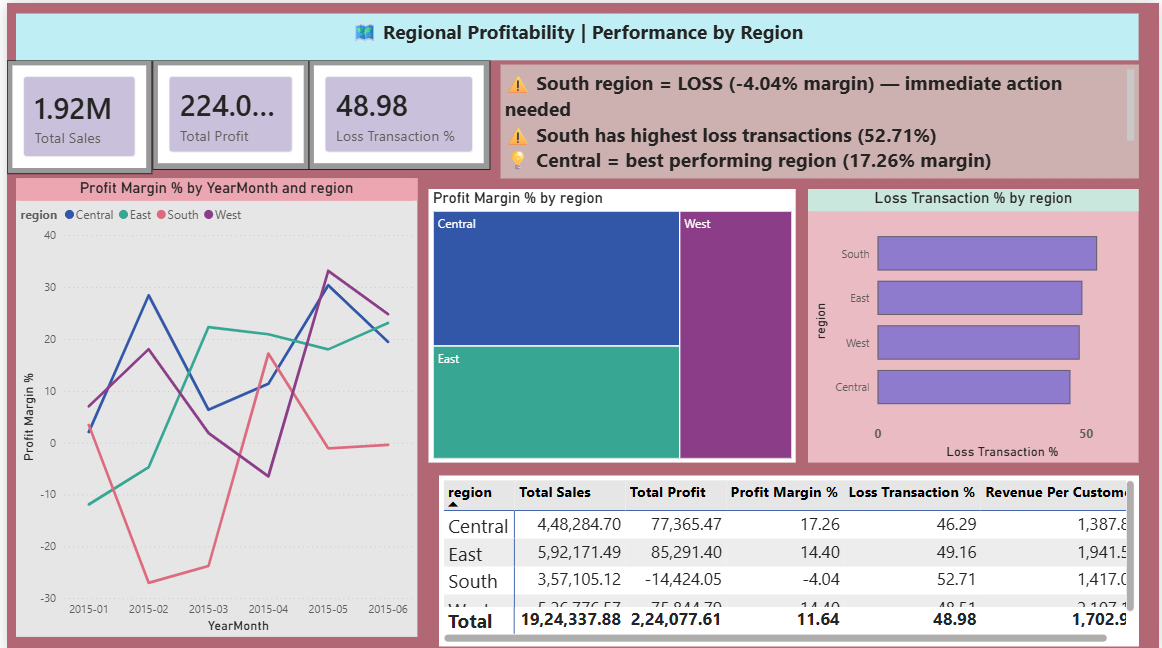

Layout of this report page (visuals, bound fields, positions):
{"tool":"powerbi","page":{"name":"Regional Profitability","canvas":[1280,720],"ordinal":4},"visuals":[{"type":"cardVisual","fields":{"Data":["_Measures.Total Sales"]},"box":[0,63.4,161,126.9],"z":0},{"type":"cardVisual","fields":{"Data":["_Measures.Loss Transaction %"]},"box":[335.1,63.4,201.7,122],"z":1000},{"type":"cardVisual","fields":{"Data":["_Measures.Total Profit"]},"box":[161,63.4,174,122],"z":2000},{"type":"treemap","fields":{"Group":["SuperStoreUs_data.region"],"Values":["_Measures.Profit Margin %"]},"box":[468.4,206.6,408.3,304.2],"z":3000},{"type":"pivotTable","fields":{"Rows":["SuperStoreUs_data.region"],"Values":["_Measures.Total Sales","_Measures.Total Profit","_Measures.Profit Margin %","_Measures.Loss Transaction %","_Measures.Revenue Per Customer"]},"box":[479.8,525.4,777.5,190.3],"z":4000},{"type":"clusteredBarChart","fields":{"Category":["SuperStoreUs_data.region"],"Y":["_Measures.Loss Transaction %"]},"box":[889.7,206.6,367.6,304.2],"z":5000},{"type":"lineChart","fields":{"Category":["DateTable.YearMonth"],"Y":["_Measures.Profit Margin %"],"Series":["SuperStoreUs_data.region"]},"box":[9.8,195.2,445.7,509.1],"z":6000},{"type":"textbox","box":[548.1,68.3,709.2,126.9],"z":7000},{"type":"textbox","box":[9.8,11.4,1247.6,52],"z":7001}]}

Visuals, with their boxes in screenshot pixels (x1, y1, x2, y2), scaled from the page's 1280x720 canvas onto the 1162x648 screenshot:
cardVisual - _Measures.Total Sales: Rect(0, 57, 146, 171)
cardVisual - _Measures.Loss Transaction %: Rect(304, 57, 487, 167)
cardVisual - _Measures.Total Profit: Rect(146, 57, 304, 167)
treemap - SuperStoreUs_data.region x _Measures.Profit Margin %: Rect(425, 186, 796, 460)
pivotTable - SuperStoreUs_data.region x _Measures.Total Sales: Rect(436, 473, 1141, 644)
clusteredBarChart - SuperStoreUs_data.region x _Measures.Loss Transaction %: Rect(808, 186, 1141, 460)
lineChart - DateTable.YearMonth x _Measures.Profit Margin %: Rect(9, 176, 414, 634)
textbox: Rect(498, 61, 1141, 176)
textbox: Rect(9, 10, 1141, 57)
